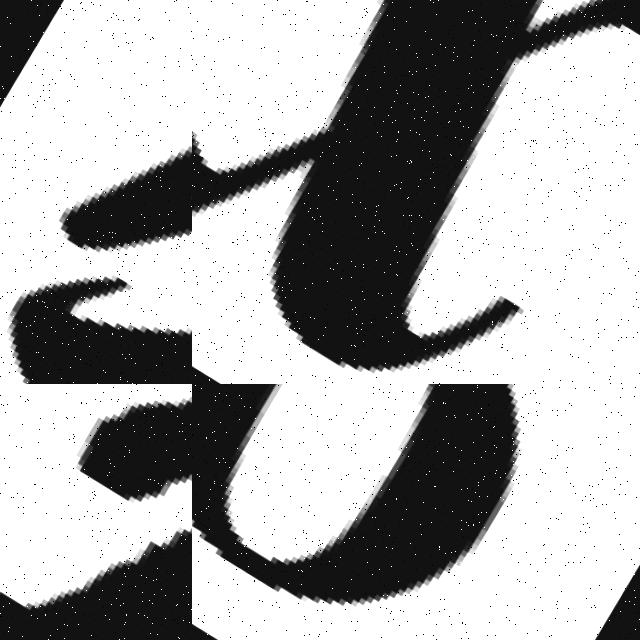9: (0, 0, 192, 384)
Q: (192, 384, 640, 640)
T: (0, 384, 192, 640)
X: (192, 0, 640, 384)
